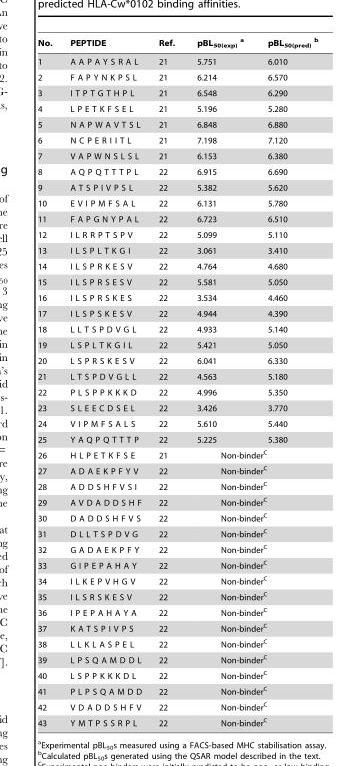table: (37, 36, 317, 727)
table column: (60, 36, 149, 727), (185, 36, 254, 727), (254, 36, 317, 727), (149, 36, 185, 727), (37, 36, 60, 727)
table column header: (37, 36, 317, 52)
table row: (37, 52, 317, 69), (37, 36, 317, 52), (37, 69, 317, 85), (37, 100, 317, 116), (37, 116, 317, 132), (37, 132, 317, 148), (37, 163, 317, 179), (37, 179, 317, 195), (37, 195, 317, 211), (37, 226, 317, 242), (37, 242, 317, 258), (37, 258, 317, 274), (37, 289, 317, 305), (37, 305, 317, 321), (37, 321, 317, 337), (37, 352, 317, 368), (37, 368, 317, 384), (37, 384, 317, 400), (37, 415, 317, 431), (37, 446, 317, 462), (37, 477, 317, 493), (37, 493, 317, 509), (37, 509, 317, 525), (37, 525, 317, 541), (37, 556, 317, 572), (37, 572, 317, 588), (37, 603, 317, 619), (37, 619, 317, 635), (37, 635, 317, 651), (37, 666, 317, 682), (37, 682, 317, 698), (37, 698, 317, 714), (37, 85, 317, 100), (37, 148, 317, 163), (37, 211, 317, 226), (37, 274, 317, 289), (37, 337, 317, 352), (37, 400, 317, 415), (37, 431, 317, 446), (37, 462, 317, 477), (37, 541, 317, 556), (37, 588, 317, 603), (37, 651, 317, 666), (37, 714, 317, 727)
table spanning cell: (185, 446, 317, 462), (185, 477, 317, 493), (185, 493, 317, 509), (185, 509, 317, 525), (185, 525, 317, 541), (185, 556, 317, 572), (185, 572, 317, 588), (185, 603, 317, 619), (185, 619, 317, 635), (185, 635, 317, 651), (185, 666, 317, 682), (185, 682, 317, 698), (185, 698, 317, 714), (185, 462, 317, 477), (185, 541, 317, 556), (185, 588, 317, 603), (185, 651, 317, 666), (185, 714, 317, 727)
